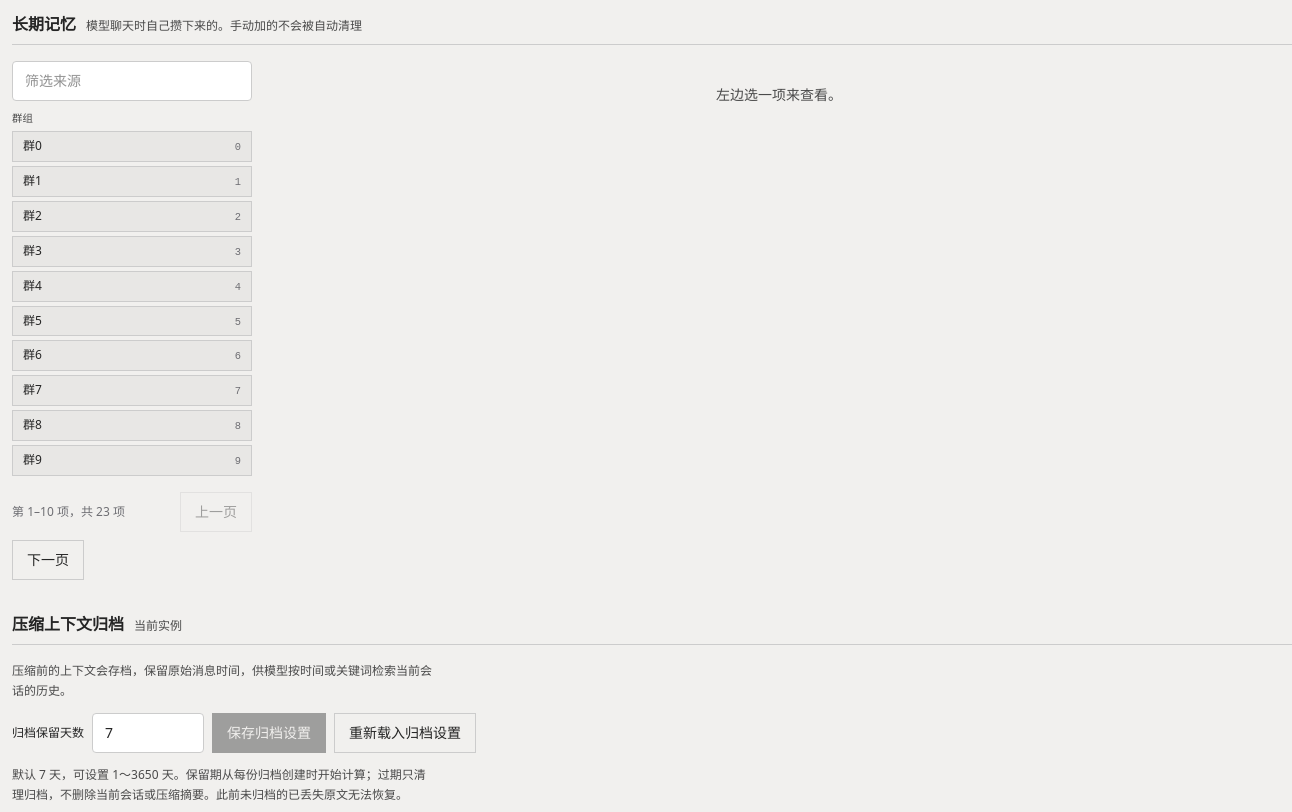
来源列表 › 筛选之后回到第一页 —— 停在第三页会看见空白
Check: the text "群0" is shown, box [23, 137, 42, 154]
Click the button "下一页" at (48, 560), box [12, 540, 84, 580]
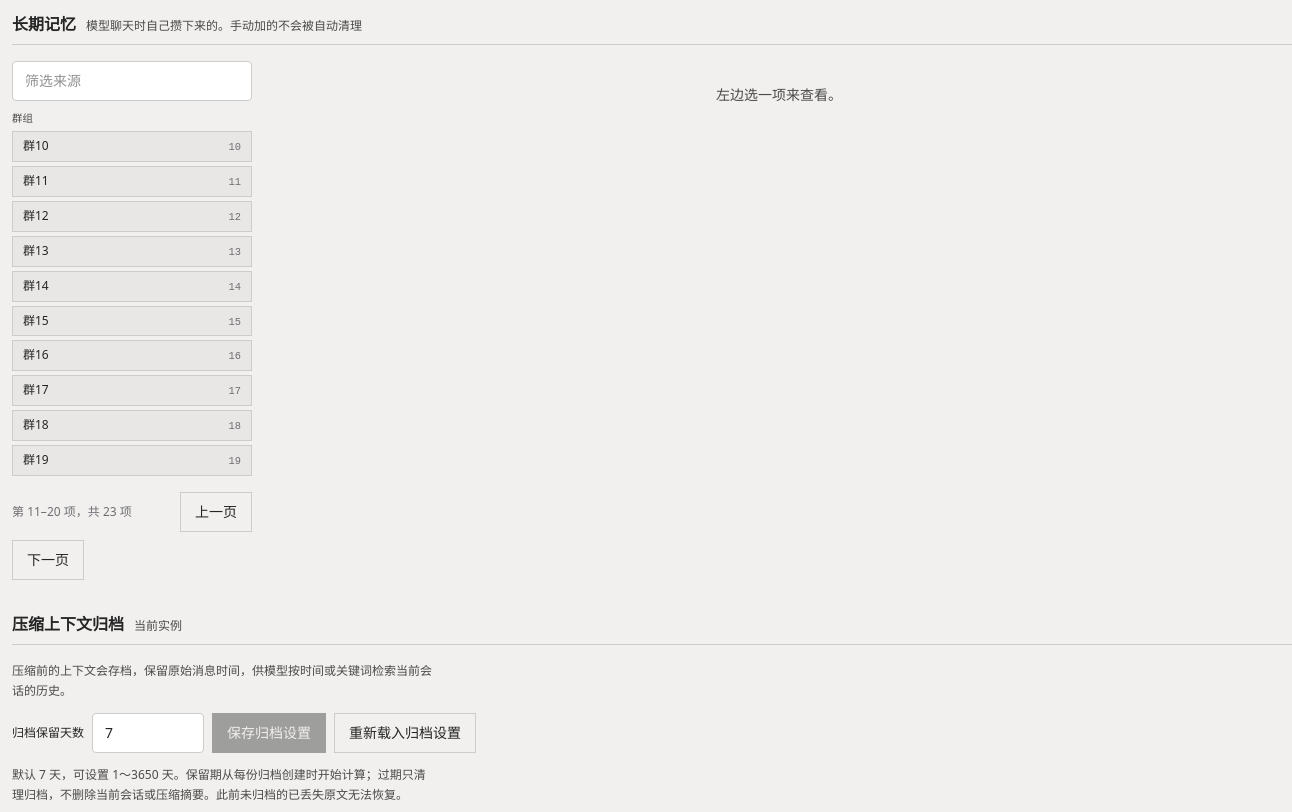
Check: the text "群10" is shown, box [23, 137, 49, 154]
Type "群1" into the field named "按名字筛选来源" at (132, 81), box [12, 61, 252, 101]
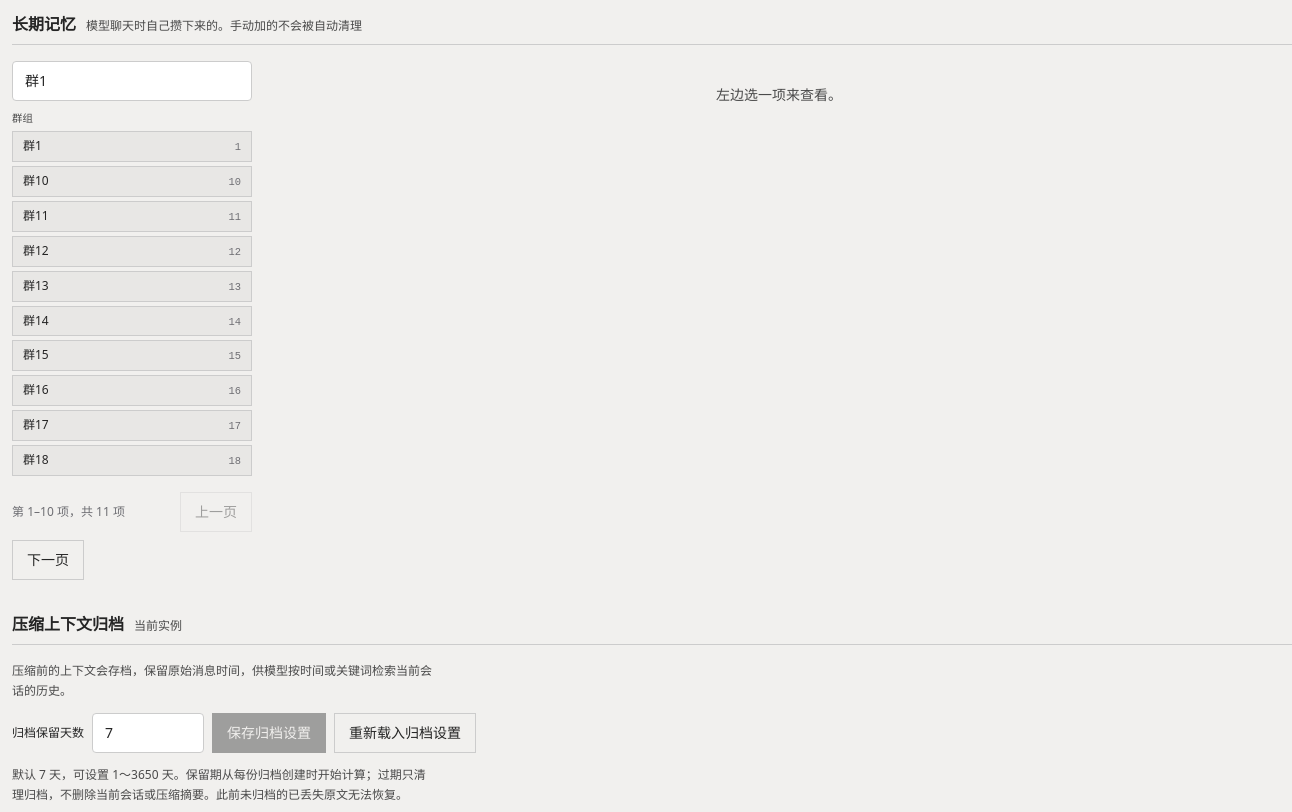
Check: the text "群1" is shown, box [23, 137, 42, 154]
Check: the text "第 1–10 项，共 11 项" is shown, box [12, 504, 125, 520]
